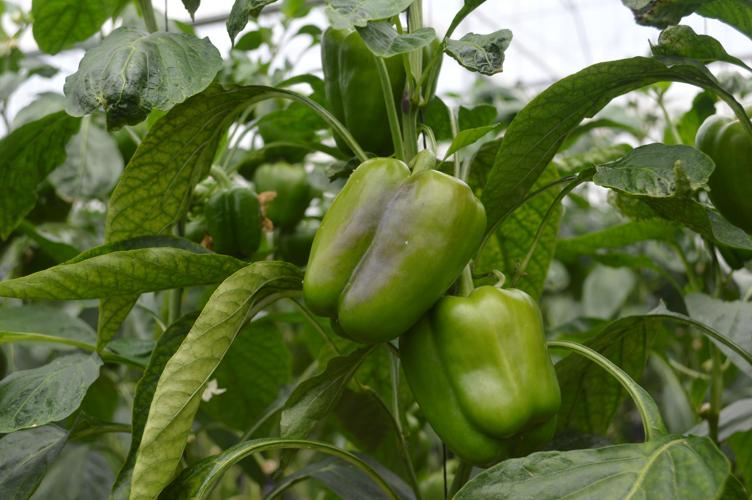BellPepper: (301, 156, 489, 335), (407, 287, 560, 465), (320, 29, 442, 157), (695, 117, 749, 228), (255, 162, 313, 231), (202, 184, 256, 257)
